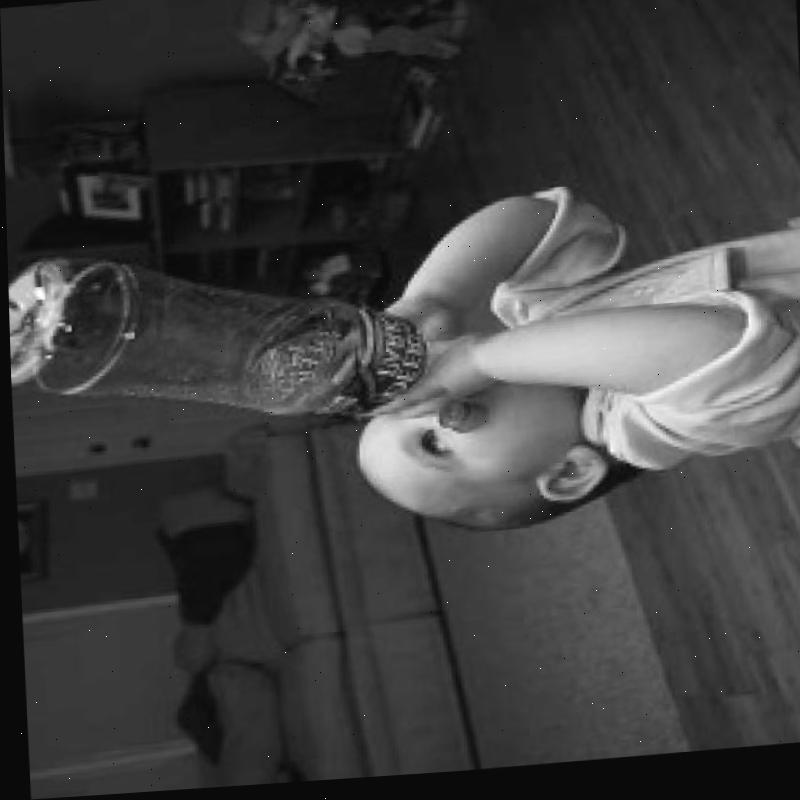botella: (6, 226, 484, 469)
